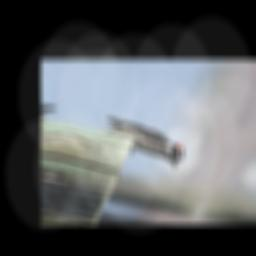Woodpecker: (90, 116, 195, 170)
